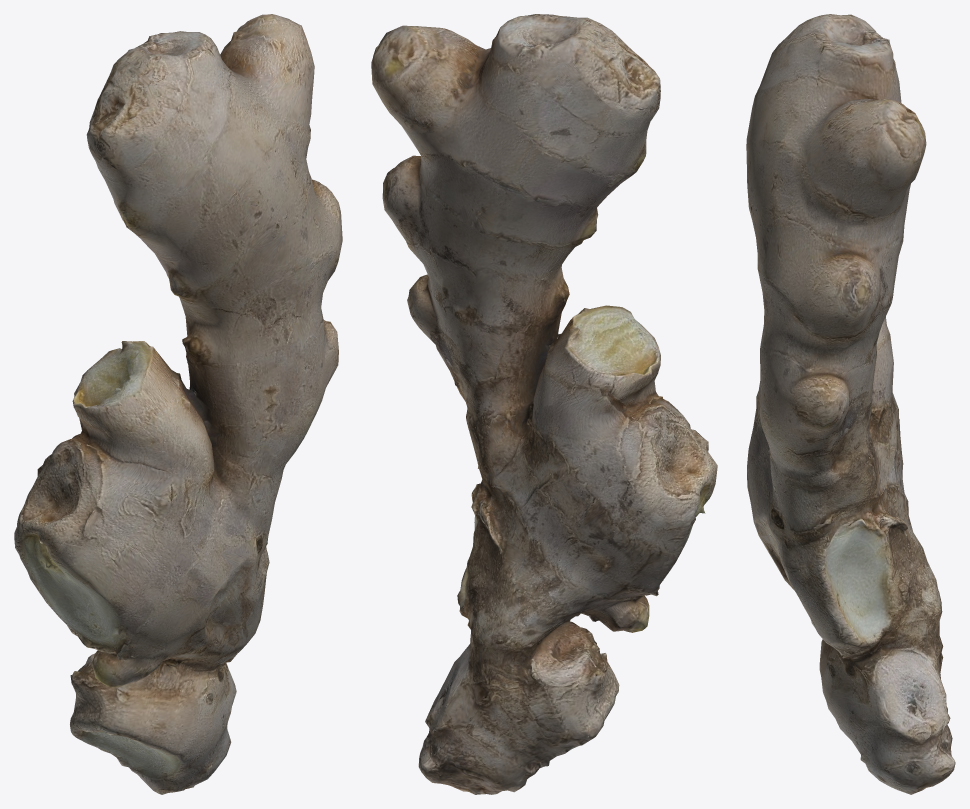
The model's file is food_ginger_01.glb.
3 renders of one model, left to right at view 1: azimuth 30°, elevation 25°; view 2: azimuth 150°, elevation 25°; view 3: azimuth 270°, elevation 25°, orthographic. The views are drawn at different scales.
Visible parts, largest first — view 1: food_ginger_01; view 2: food_ginger_01; view 3: food_ginger_01.
Part boxes in pixels (<box>): food_ginger_01: <box>14,14,342,794</box>; food_ginger_01: <box>371,14,717,794</box>; food_ginger_01: <box>746,14,955,794</box>.
Size of the model in its own units: 0.2462 by 0.5767 by 0.1474.
Materials: 1 (1 with a texture image).
